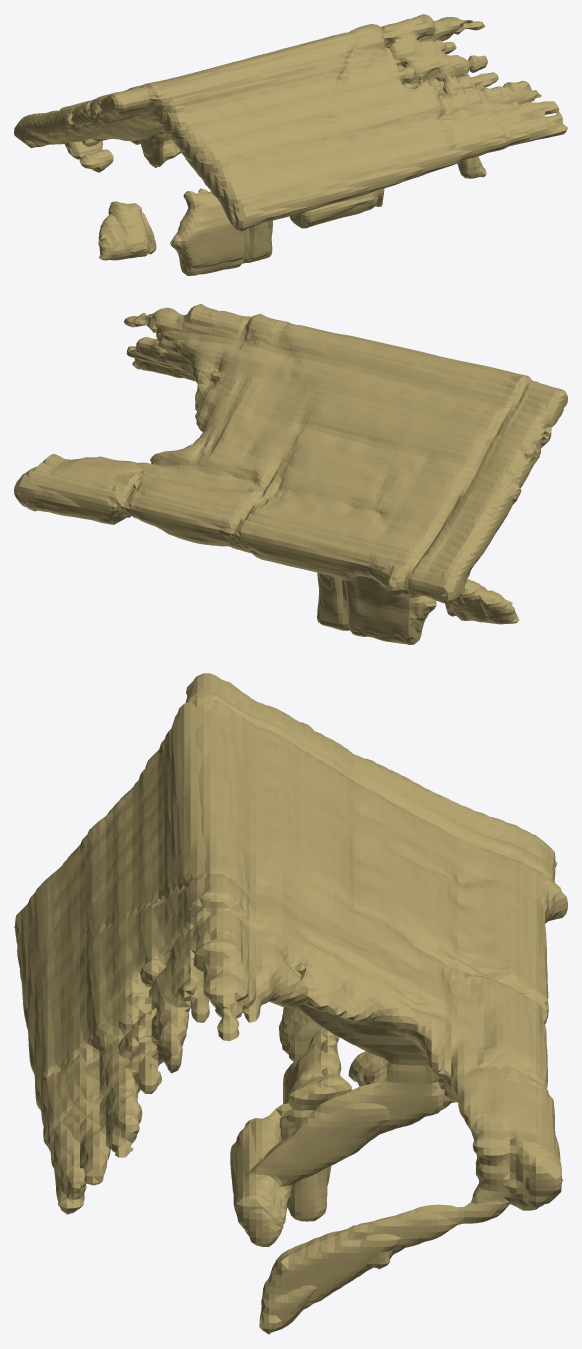
Rendered from raw.glb.
3 views of the same model, one above another, from view 1: azimuth 30°, elevation 25°; view 2: azimuth 150°, elevation 25°; view 3: azimuth 270°, elevation 25° (orthographic). The views are drawn at different scales.
Parts seen in each view (by area): view 1: world; view 2: world; view 3: world.
Part boxes in pixels (x1,y1,x2,y2): world: [14, 14, 567, 275]; world: [14, 304, 567, 644]; world: [14, 673, 567, 1334].
Size of the model in its own units: 1.5 by 0.7932 by 0.9806.
